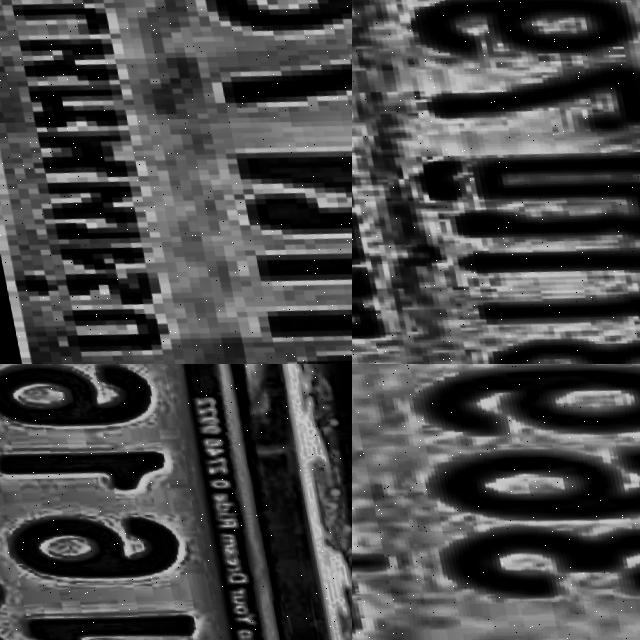license-plate: (0, 0, 352, 364), (352, 0, 640, 364), (0, 364, 331, 640), (352, 364, 640, 640)
